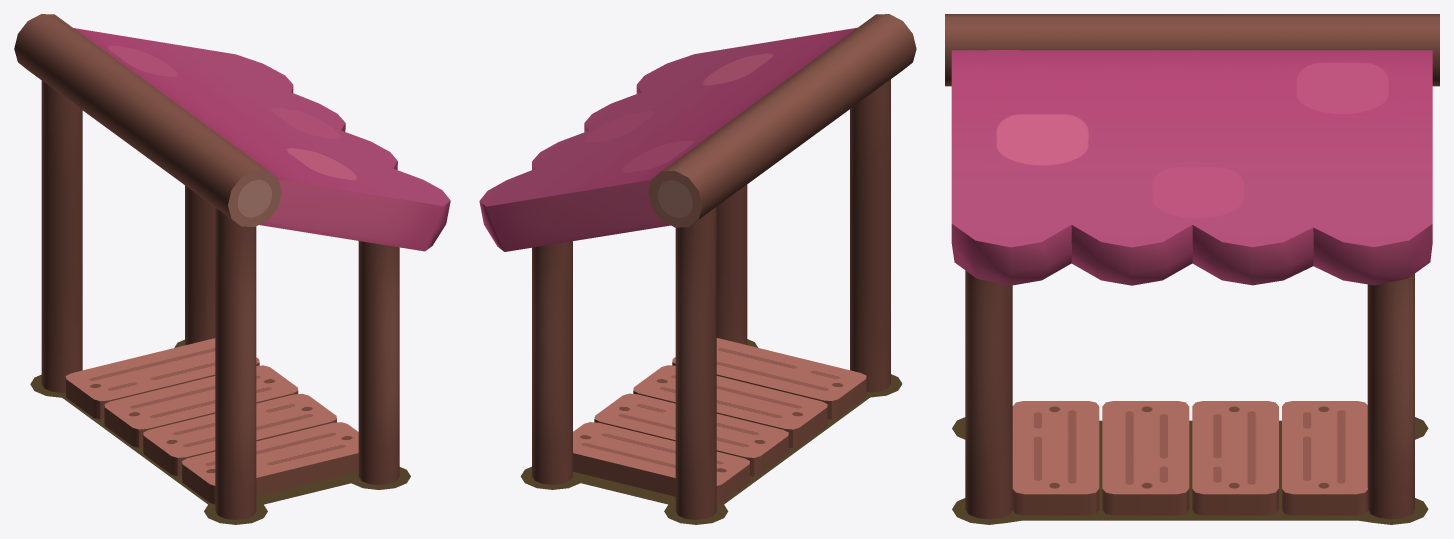
File: Mu_Balcony.fbx
3 renders of one model, left to right at view 1: azimuth 30°, elevation 25°; view 2: azimuth 150°, elevation 25°; view 3: azimuth 270°, elevation 25°, orthographic. The views are drawn at different scales.
Visible parts, largest first — view 1: Mu_Balcony_a, Mu_Balcony_b, Mu_Balcony_shadow; view 2: Mu_Balcony_a, Mu_Balcony_b, Mu_Balcony_shadow; view 3: Mu_Balcony_a, Mu_Balcony_b, Mu_Balcony_shadow.
Boxes of the visible parts, box(x1,y1,x2,y2) form: Mu_Balcony_a: box(14, 14, 450, 519); Mu_Balcony_b: box(65, 338, 358, 504); Mu_Balcony_shadow: box(30, 339, 410, 524); Mu_Balcony_a: box(479, 14, 916, 519); Mu_Balcony_b: box(573, 338, 866, 504); Mu_Balcony_shadow: box(520, 339, 902, 524); Mu_Balcony_a: box(945, 14, 1439, 519); Mu_Balcony_b: box(1012, 401, 1368, 515); Mu_Balcony_shadow: box(952, 417, 1428, 524).
Size of the model in its own units: 171 by 238 by 259.
Materials: 3 (2 with a texture image).
